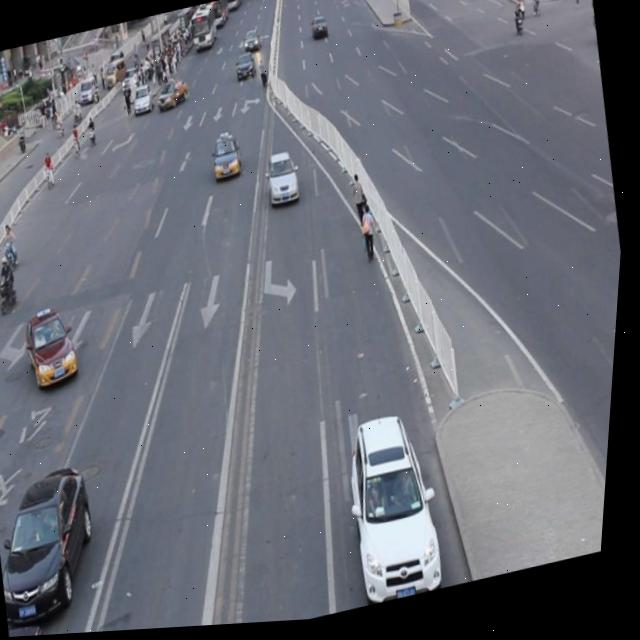car: (338, 406, 464, 613), (0, 456, 117, 627), (22, 301, 89, 393), (263, 150, 306, 213), (209, 133, 246, 184), (15, 613, 66, 638)
